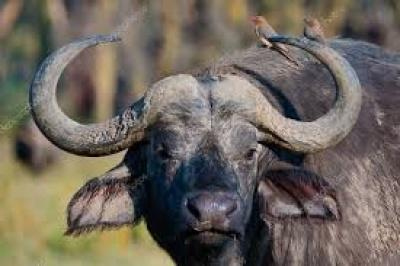buffalo: (30, 16, 399, 265)
